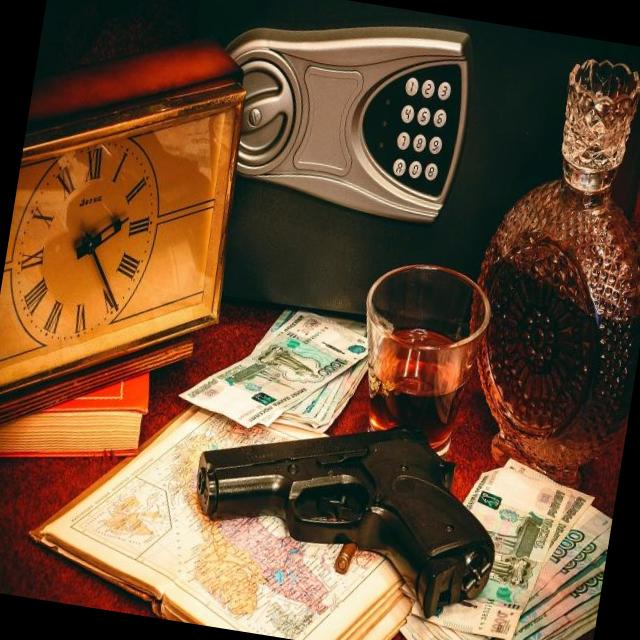Gun: (197, 427, 495, 616)
